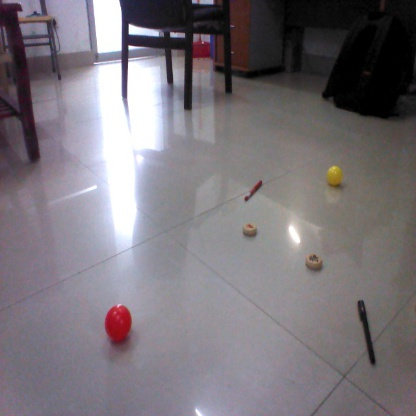ball: (104, 303, 135, 345), (325, 166, 343, 187)
chess: (305, 250, 327, 271), (242, 223, 260, 234)
pen: (357, 300, 377, 364), (244, 178, 262, 199)
